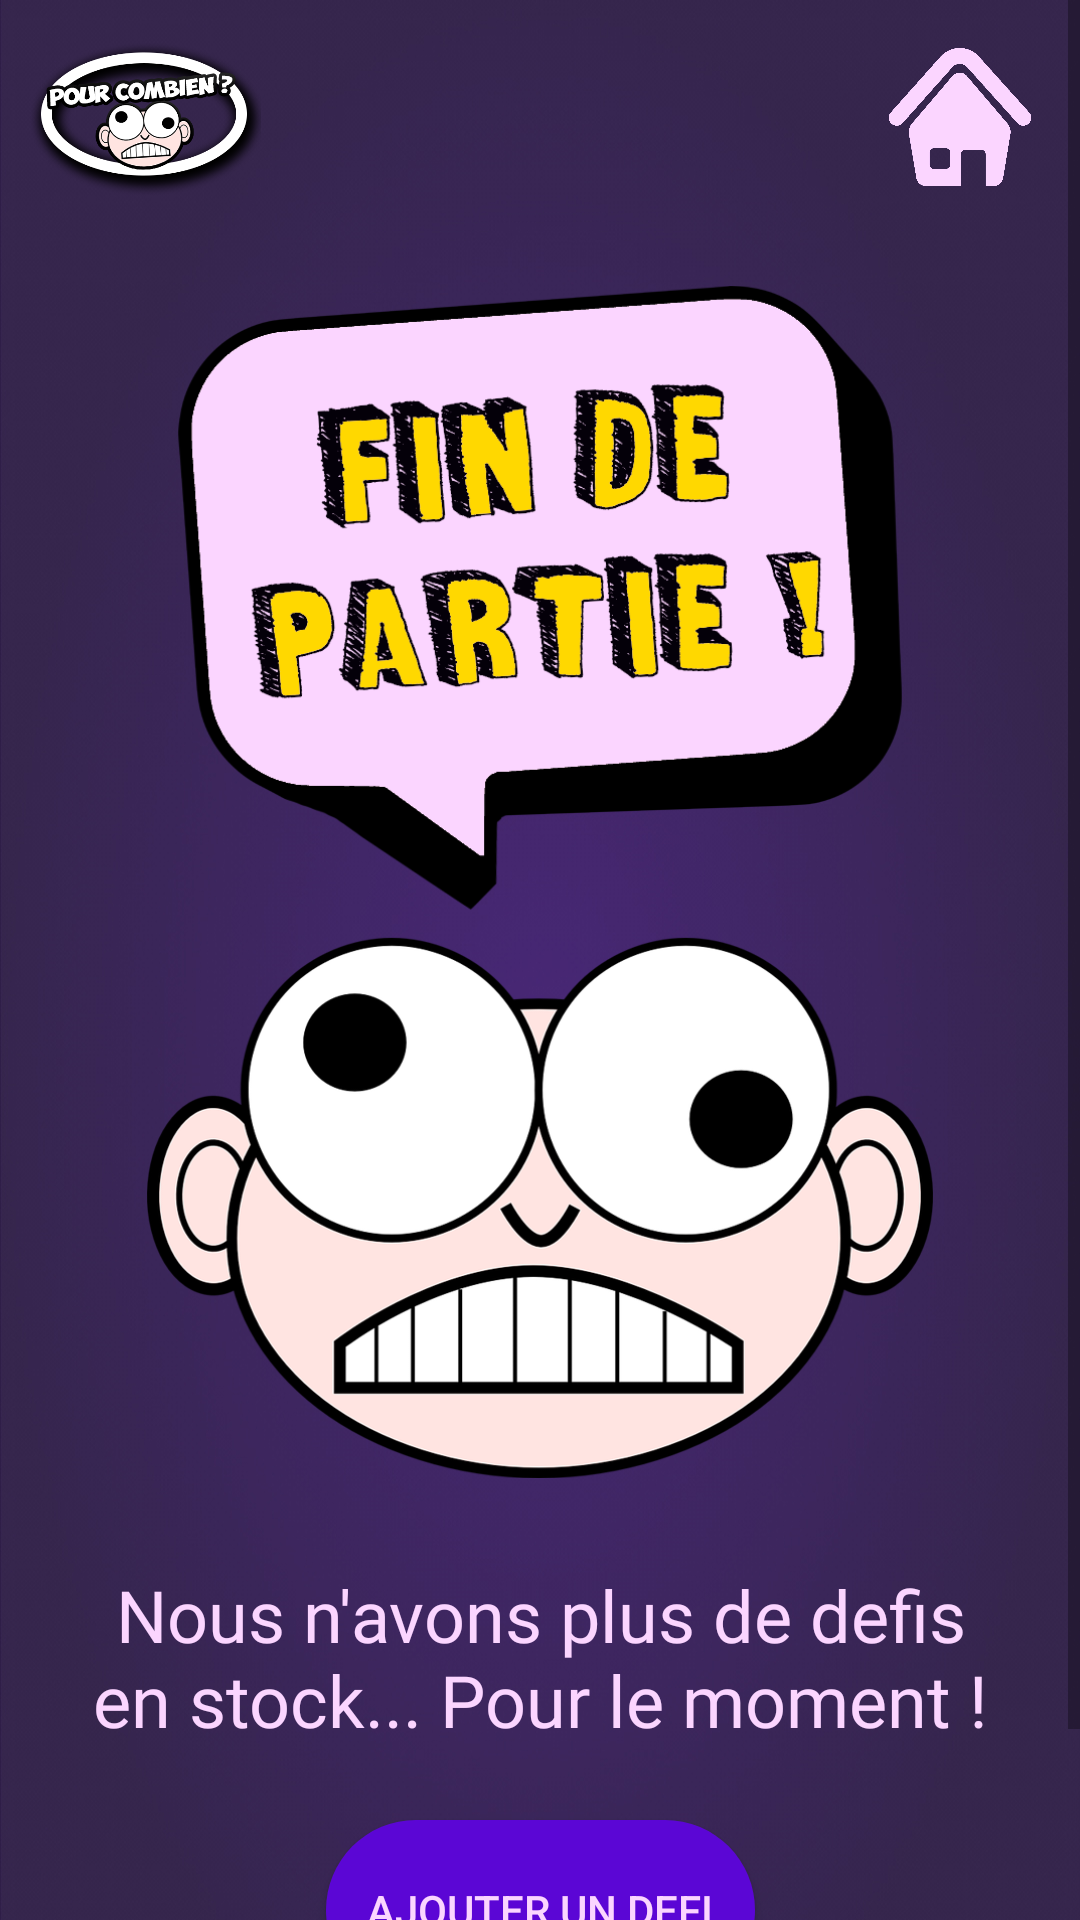

Where icons sit on this 1080 × 1920 app screen, as (x1, y1, x2, y2):
Bouton pour retourner à la page d'accueil: (889, 48, 1031, 186)
